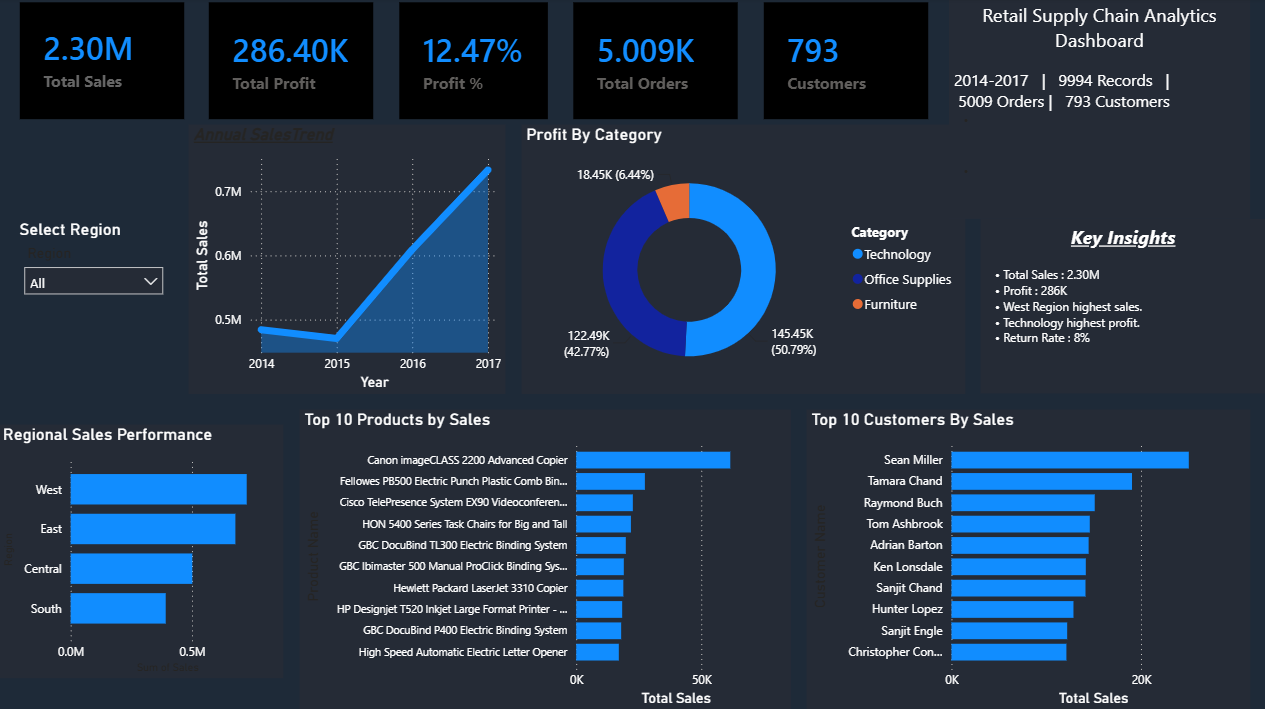

This screenshot's page, from the dashboard's own definition file:
{"tool":"powerbi","page":{"name":"Page 1","canvas":[1280,720],"ordinal":0},"visuals":[{"type":"cardVisual","fields":{"Data":["Sum(Retails Order Full Dataset.Sales)"]},"box":[16,0,176,128],"z":0},{"type":"cardVisual","fields":{"Data":["Sum(Retails Order Full Dataset.Profit)"]},"box":[208,0,176,128],"z":1000},{"type":"cardVisual","fields":{"Data":["Count(Retails Order Full Dataset.Order ID)"]},"box":[576,0,176,128],"z":2000},{"type":"clusteredBarChart","title":"Regional Sales Performance","fields":{"Category":["Retails Order Full Dataset.Region"],"Y":["Sum(Retails Order Full Dataset.Sales)"]},"box":[0,432,288,256],"z":3000},{"type":"donutChart","title":"Profit By Category","fields":{"Category":["Retails Order Full Dataset.Category"],"Y":["Sum(Retails Order Full Dataset.Profit)"]},"box":[528,128,448,272],"z":4000},{"type":"stackedAreaChart","title":"Annual SalesTrend","fields":{"Category":["Retails Order Full Dataset.Order Date.Variation.Date Hierarchy.Year","Retails Order Full Dataset.Order Date.Variation.Date Hierarchy.Quarter","Retails Order Full Dataset.Order Date.Variation.Date Hierarchy.Month","Retails Order Full Dataset.Order Date.Variation.Date Hierarchy.Day"],"Y":["Sum(Retails Order Full Dataset.Sales)"]},"box":[192,128,320,272],"z":5000},{"type":"barChart","title":"Top 10 Customers By Sales","fields":{"Category":["Retails Order Full Dataset.Customer Name"],"Y":["Sum(Retails Order Full Dataset.Sales)"]},"box":[816,416,448,304],"z":6000},{"type":"slicer","title":"Select Region","fields":{"Values":["Retails Order Full Dataset.Region"]},"box":[16,224,160,96],"z":7000},{"type":"cardVisual","title":"Profit %","fields":{"Data":["Retails Order Full Dataset.Profit_Margin %"]},"box":[400,0,160,128],"z":8000},{"type":"textbox","box":[992,224,288,176],"z":9000},{"type":"barChart","title":"Top 10 Products by Sales","fields":{"Category":["Retails Order Full Dataset.Product Name"],"Y":["Sum(Retails Order Full Dataset.Sales)"]},"box":[304,416,496,304],"z":10000},{"type":"textbox","box":[960,0,304,224],"z":11000},{"type":"cardVisual","fields":{"Data":["Retails Order Full Dataset.Customers"]},"box":[768,0,176,128],"z":12000}]}

Visuals, with their boxes in screenshot pixels (x1, y1, x2, y2), scaled from the page's 1280x720 canvas onto the 1265x709 screenshot:
cardVisual - Sum(Retails Order Full Dataset.Sales): [16,0,190,126]
cardVisual - Sum(Retails Order Full Dataset.Profit): [206,0,380,126]
cardVisual - Count(Retails Order Full Dataset.Order ID): [569,0,743,126]
"Regional Sales Performance" clusteredBarChart: [0,425,285,677]
"Profit By Category" donutChart: [522,126,965,394]
"Annual SalesTrend" stackedAreaChart: [190,126,506,394]
"Top 10 Customers By Sales" barChart: [806,410,1249,708]
"Select Region" slicer: [16,221,174,315]
"Profit %" cardVisual: [395,0,553,126]
textbox: [980,221,1264,394]
"Top 10 Products by Sales" barChart: [300,410,791,708]
textbox: [949,0,1249,221]
cardVisual - Retails Order Full Dataset.Customers: [759,0,933,126]
